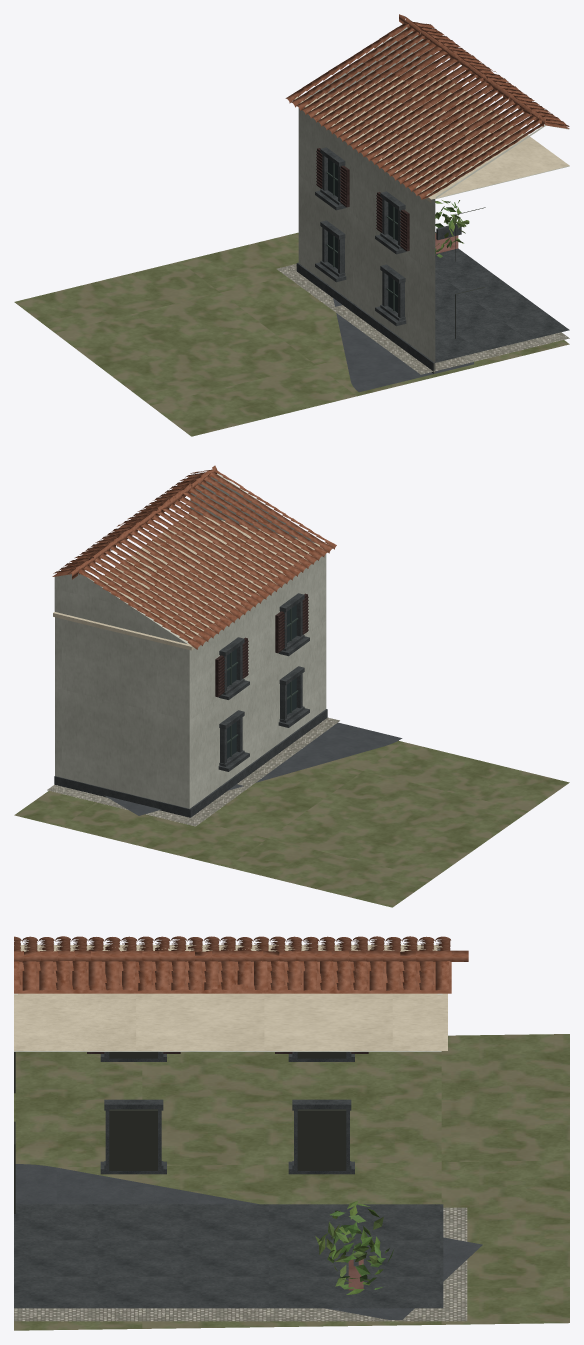
3 renders of one model, top to bottom at view 1: azimuth 30°, elevation 25°; view 2: azimuth 150°, elevation 25°; view 3: azimuth 270°, elevation 25°, orthographic. The views are drawn at different scales.
Bounding box in the file's own units: 16 × 9.32 × 13.
Materials: 13 (10 with a texture image).
